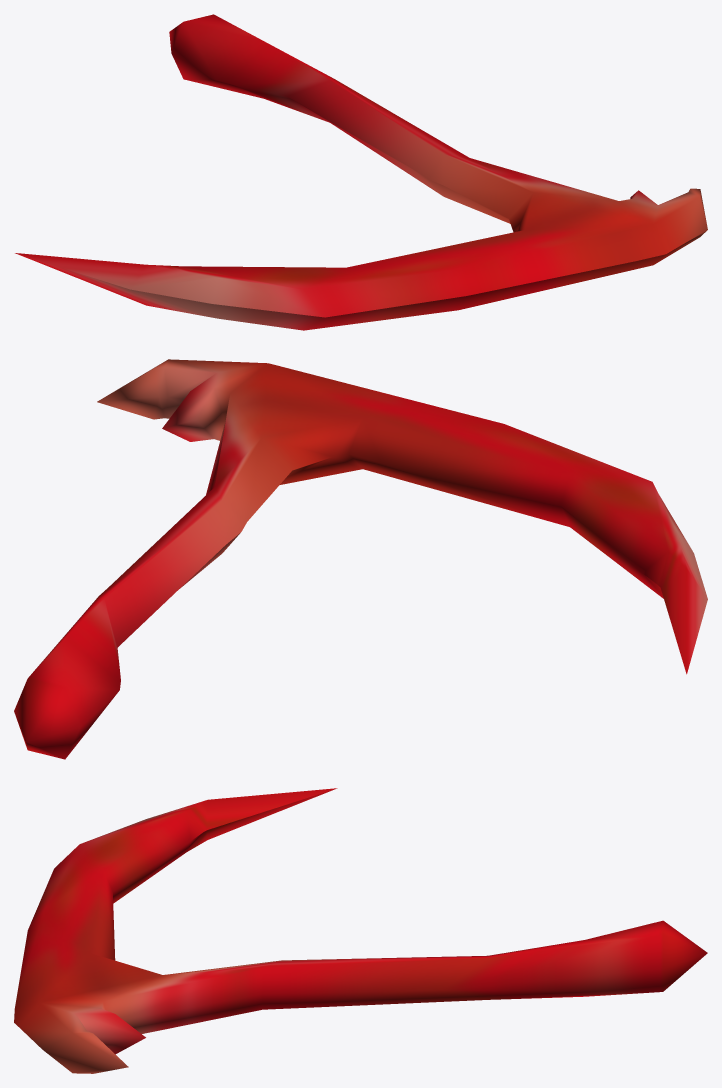
Rendered from kama.obj.
3 views of the same model, one above another, from view 1: azimuth 30°, elevation 25°; view 2: azimuth 150°, elevation 25°; view 3: azimuth 270°, elevation 25° (orthographic). The views are drawn at different scales.
Parts seen in each view (by area): view 1: pPlane1; view 2: pPlane1; view 3: pPlane1.
Part boxes in pixels (bbox=[...]): pPlane1: bbox=[15, 14, 707, 330]; pPlane1: bbox=[14, 359, 707, 759]; pPlane1: bbox=[14, 788, 707, 1073].
Size of the model in its own units: 0.9228 by 0.0876 by 0.9696.
1 material, 1 textured.
